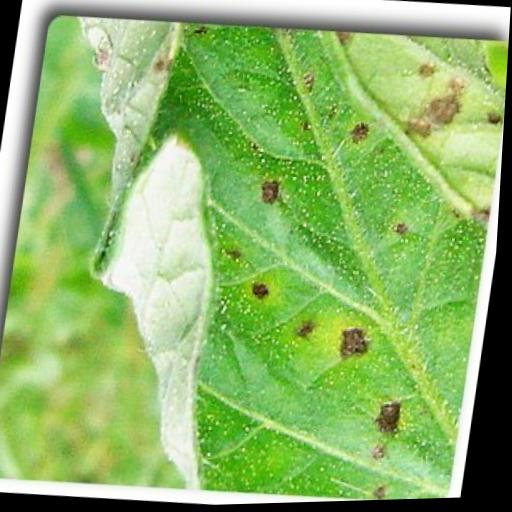Septoria: (13, 6, 511, 511)
